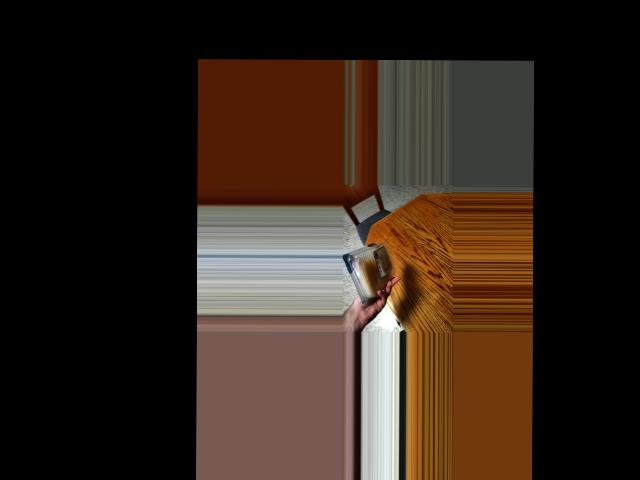cheese: (346, 242, 393, 298)
